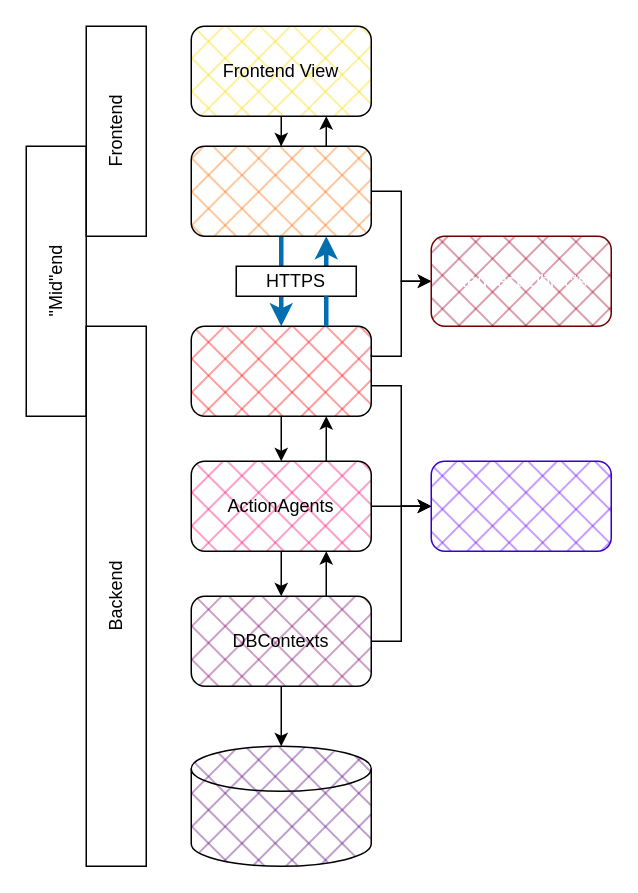
Image size: 638x893. Some labels were removed from this diagram. The shapes that lost their labels are listed below. From the top down, each one's box as (x1, y1, x2, y2) in pixels, then its label:
(190, 145, 371, 236): API.js
(190, 325, 371, 416): Controllers
(430, 460, 611, 551): Common POCOs
(190, 745, 371, 866): DB of Choice
